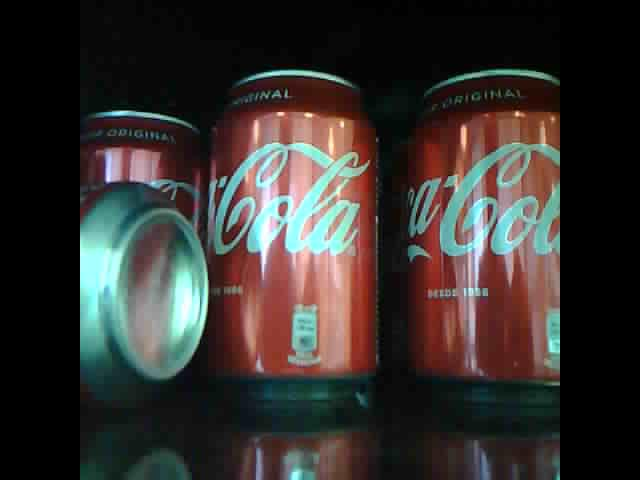coca cola: (209, 62, 380, 393), (405, 63, 560, 390), (82, 175, 213, 400), (82, 96, 206, 246)
